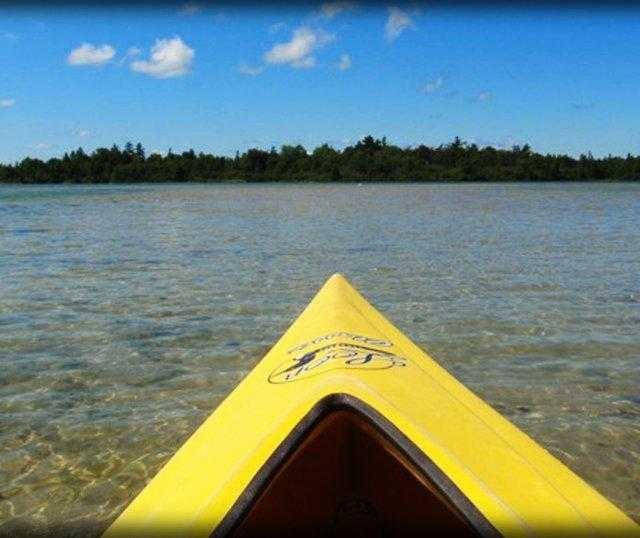kayak: (109, 272, 636, 532)
